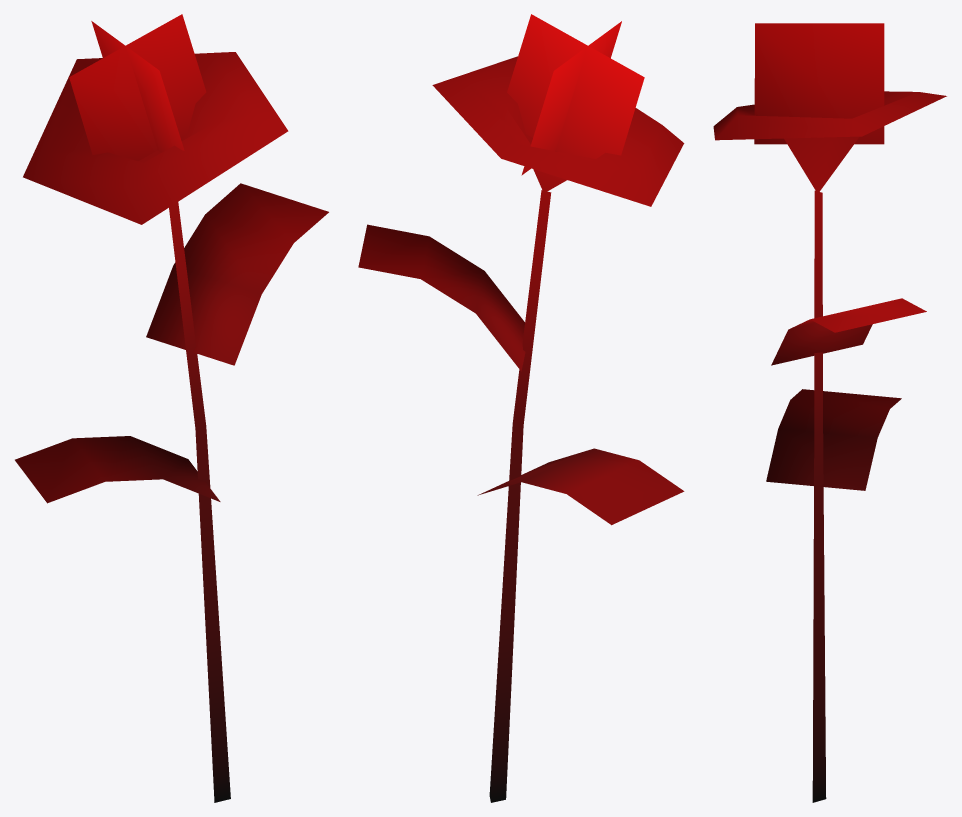
File: SM_Flower7.fbx
The picture shows the model from 3 angles, left to right: view 1: azimuth 30°, elevation 25°; view 2: azimuth 150°, elevation 25°; view 3: azimuth 270°, elevation 25°; orthographic projection. The views are drawn at different scales.
Visible parts, largest first — view 1: Flower7; view 2: Flower7; view 3: Flower7.
Boxes of the visible parts, x1=… form: Flower7: x1=15, y1=14, x2=328, y2=802; Flower7: x1=358, y1=14, x2=684, y2=802; Flower7: x1=713, y1=23, x2=946, y2=802.
Size of the model in its own units: 0.196 by 0.4961 by 0.1404.
